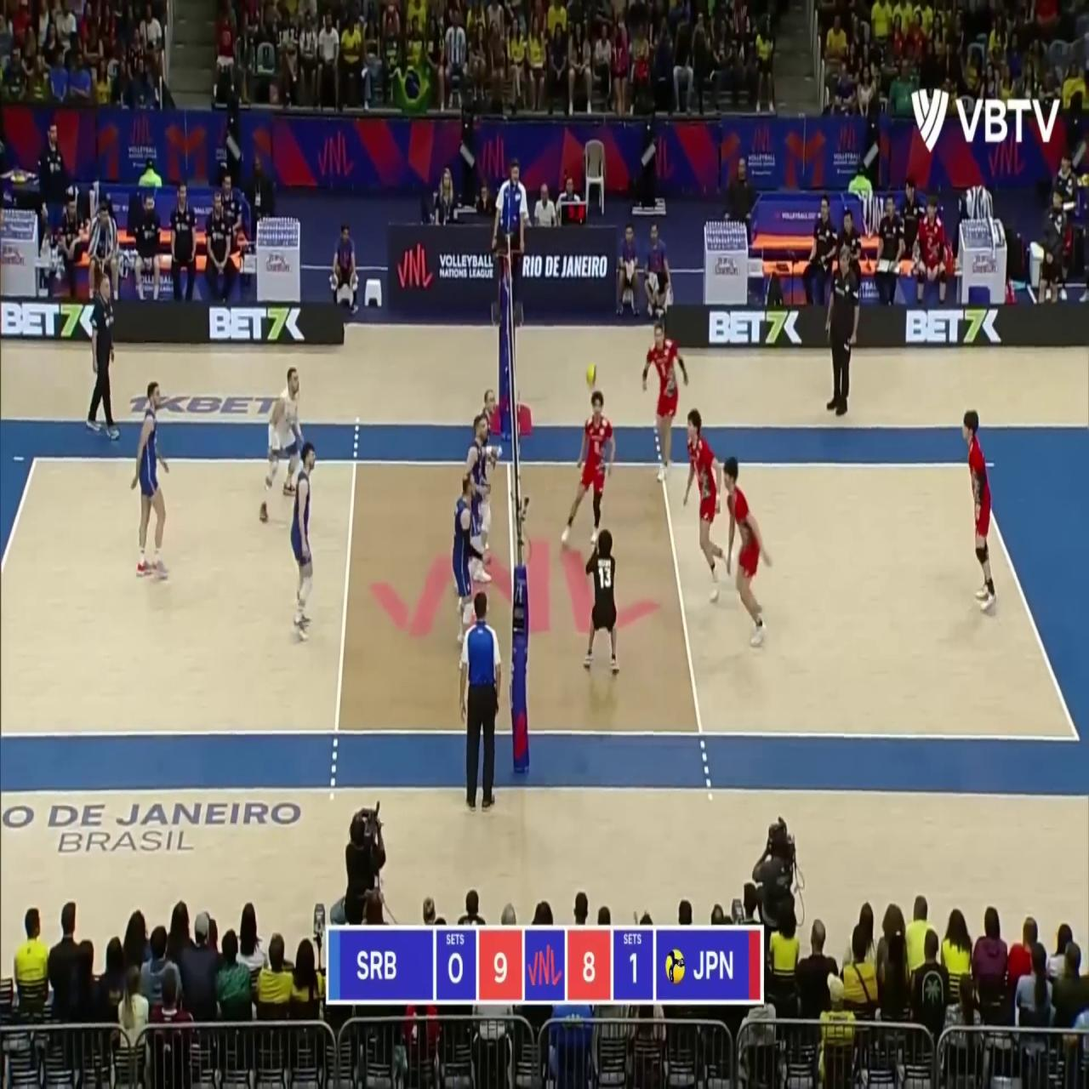ball: (585, 362, 598, 388)
